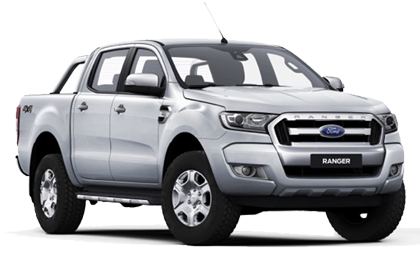pickup: (12, 35, 407, 244)
